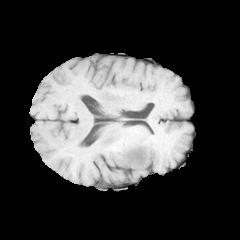glioma: (114, 142, 152, 171)
